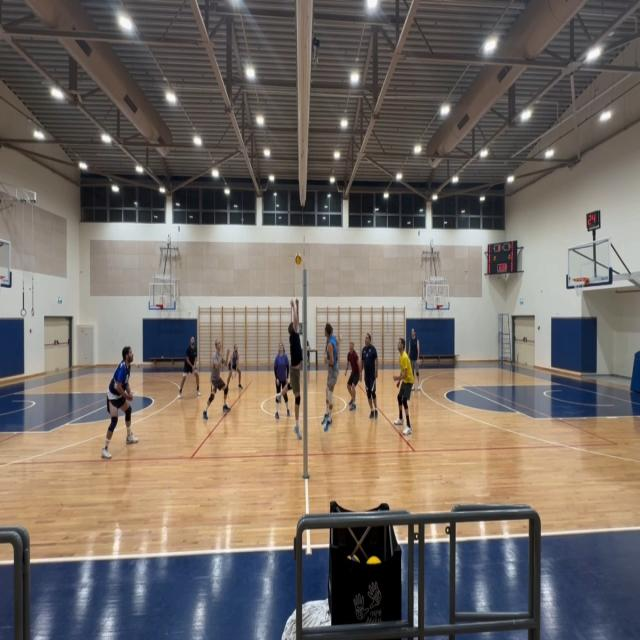volleyball: (295, 253, 302, 265)
